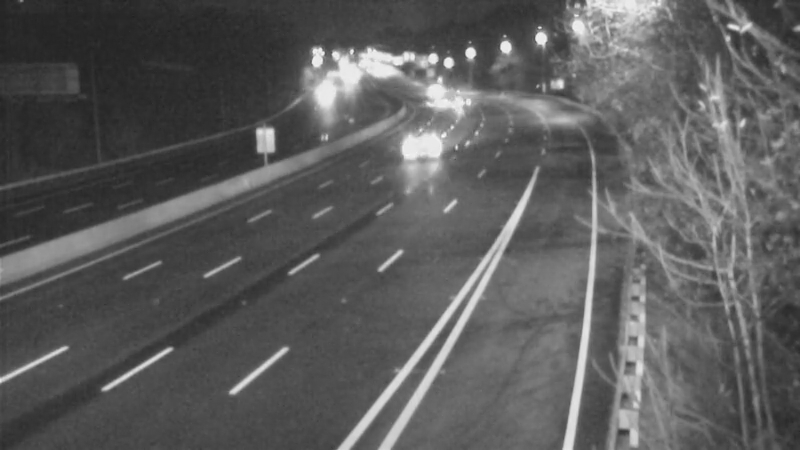vehicle: (404, 59, 454, 109), (414, 70, 464, 120), (434, 71, 484, 121), (396, 117, 446, 167), (296, 69, 346, 119)
